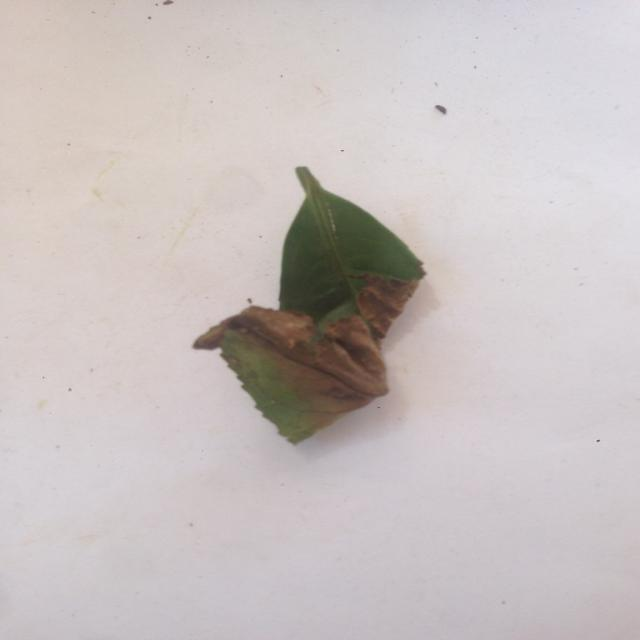Brown Blight: (192, 150, 458, 437)
